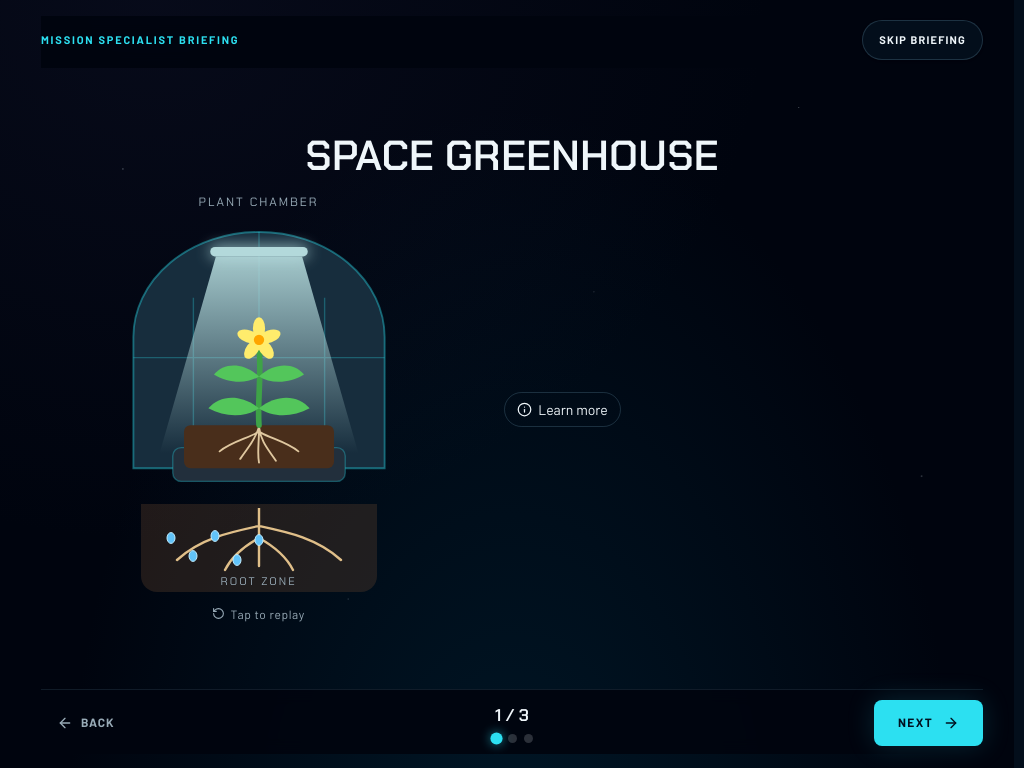
Test case: Specialist Mission 2 briefing (ages 10-12) › explains PAR in a tooltip that opens on request
Click the button "NEXT": (928,723) [874,700,983,746]
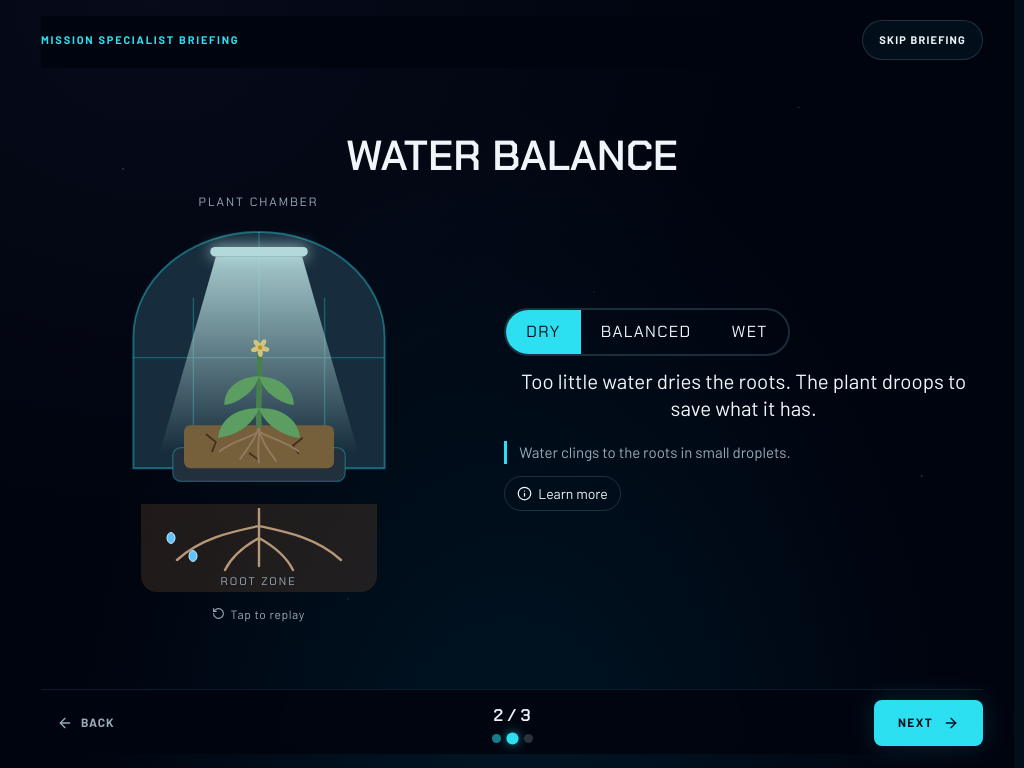
Click the button "NEXT": (928,723) [874,700,983,746]
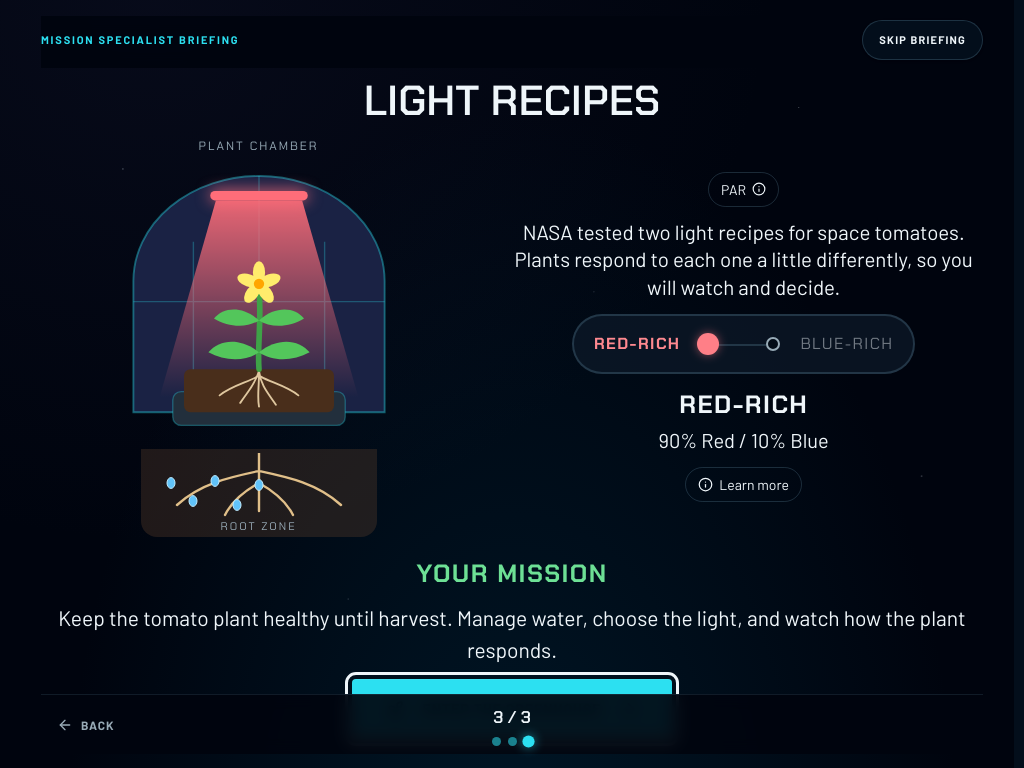
Click the button "PAR": (744,189) [708,172,779,207]
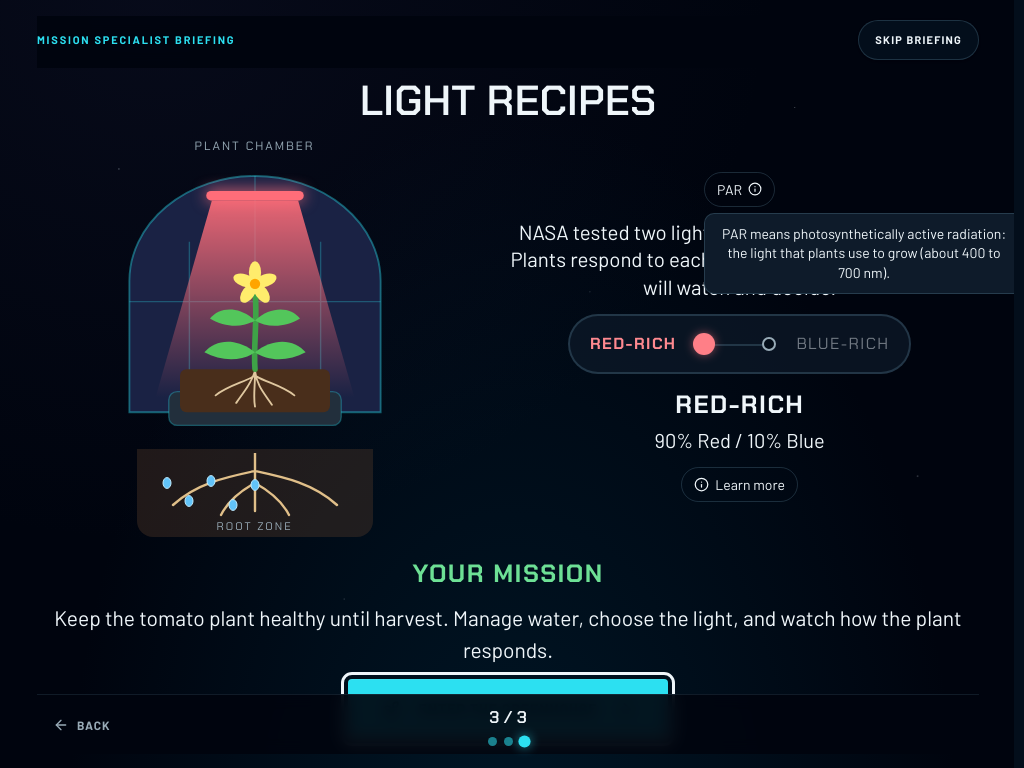
Expected: the tooltip shows "photosynthetically active radiation", [722,225,1006,281]
